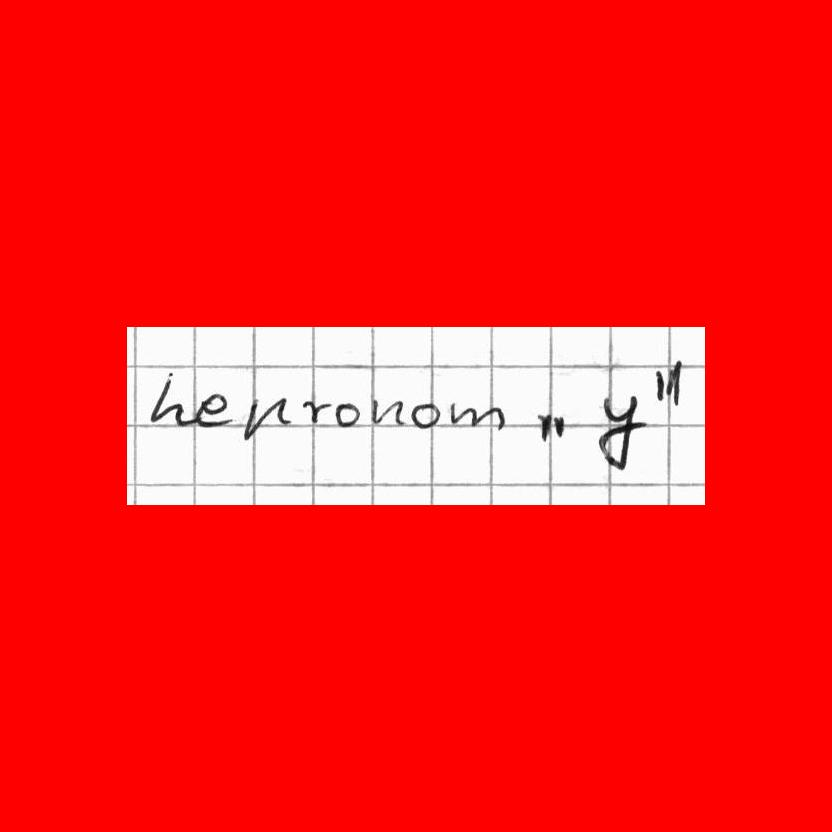Char: (591, 392, 649, 472), (240, 393, 294, 441), (149, 370, 190, 426), (448, 400, 508, 432), (650, 357, 684, 408), (194, 390, 232, 429), (369, 395, 407, 428), (531, 410, 568, 443), (410, 398, 445, 428), (300, 396, 332, 428), (333, 397, 363, 428)
